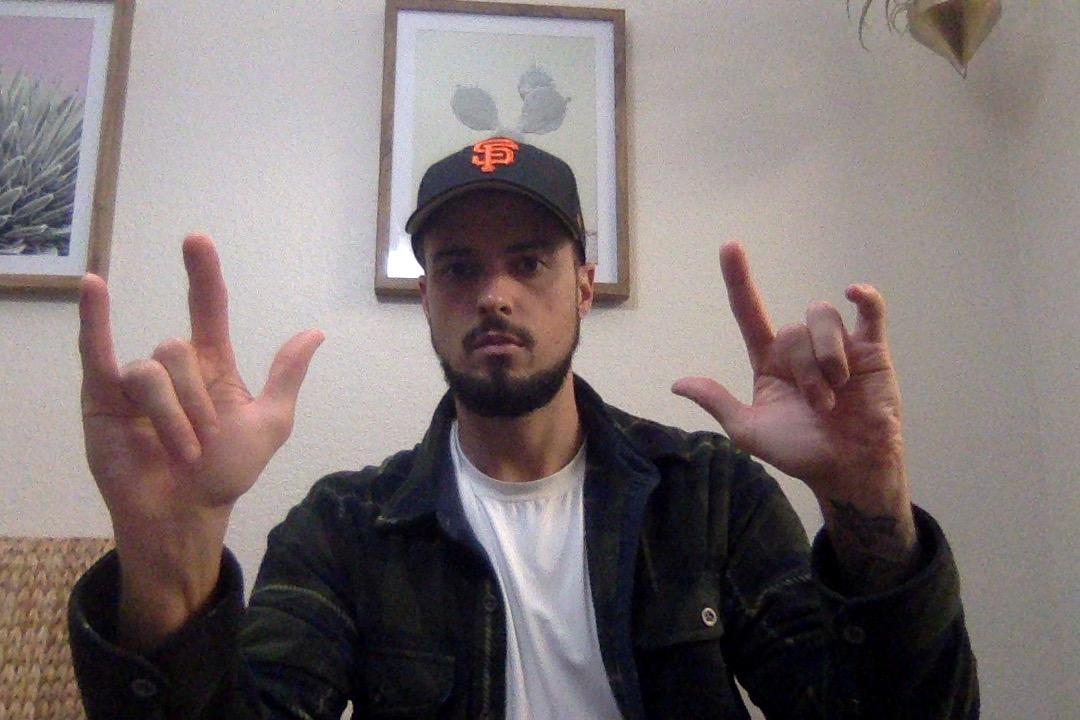Love-You: (73, 213, 326, 519), (650, 232, 903, 498)
